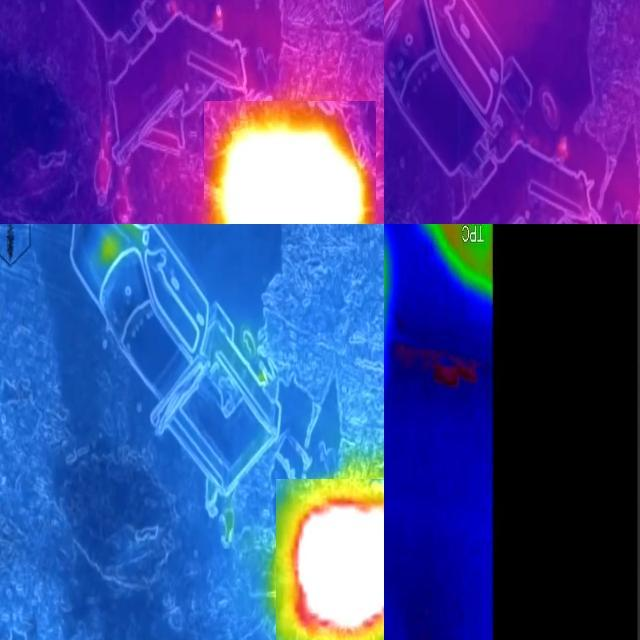fire: (205, 102, 377, 225), (277, 480, 385, 640)
